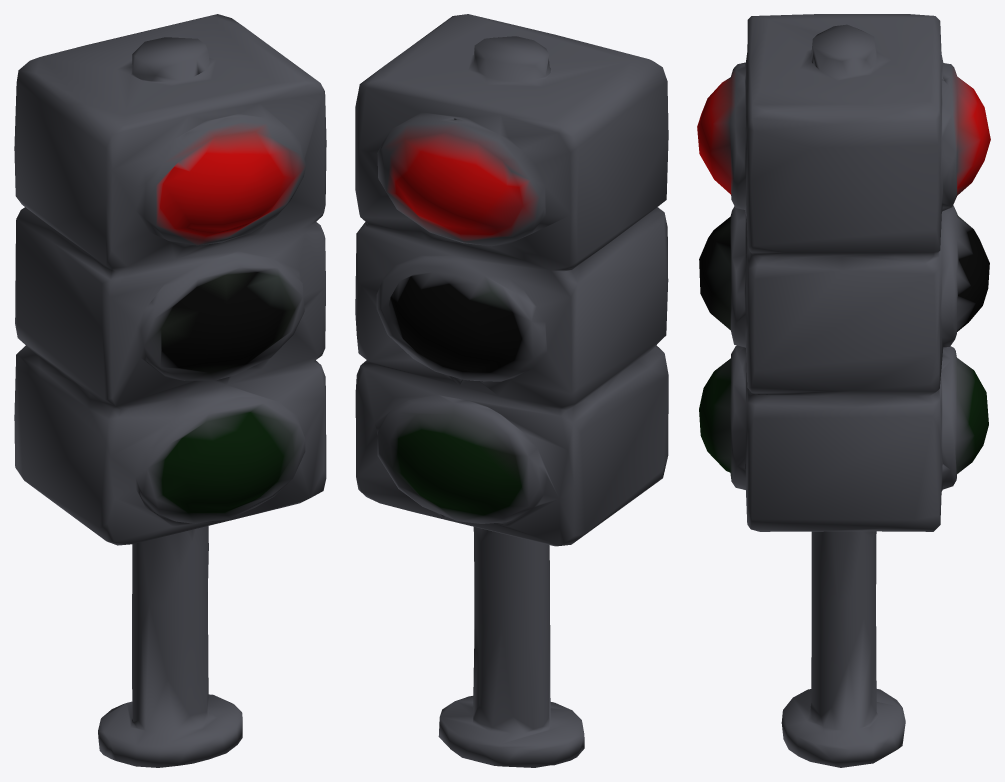
Rendered from gen3d-traffic-light-lod0.glb.
3 renders of one model, left to right at view 1: azimuth 30°, elevation 25°; view 2: azimuth 150°, elevation 25°; view 3: azimuth 270°, elevation 25°, orthographic.
Parts seen in each view (by area): view 1: part_0; view 2: part_0; view 3: part_0.
Boxes of the visible parts, x1,y1,x2,y2 form: part_0: (14, 14, 326, 767); part_0: (355, 14, 668, 767); part_0: (697, 14, 990, 767).
Bounding box in the file's own units: 0.3348 × 0.9987 × 0.3826.
